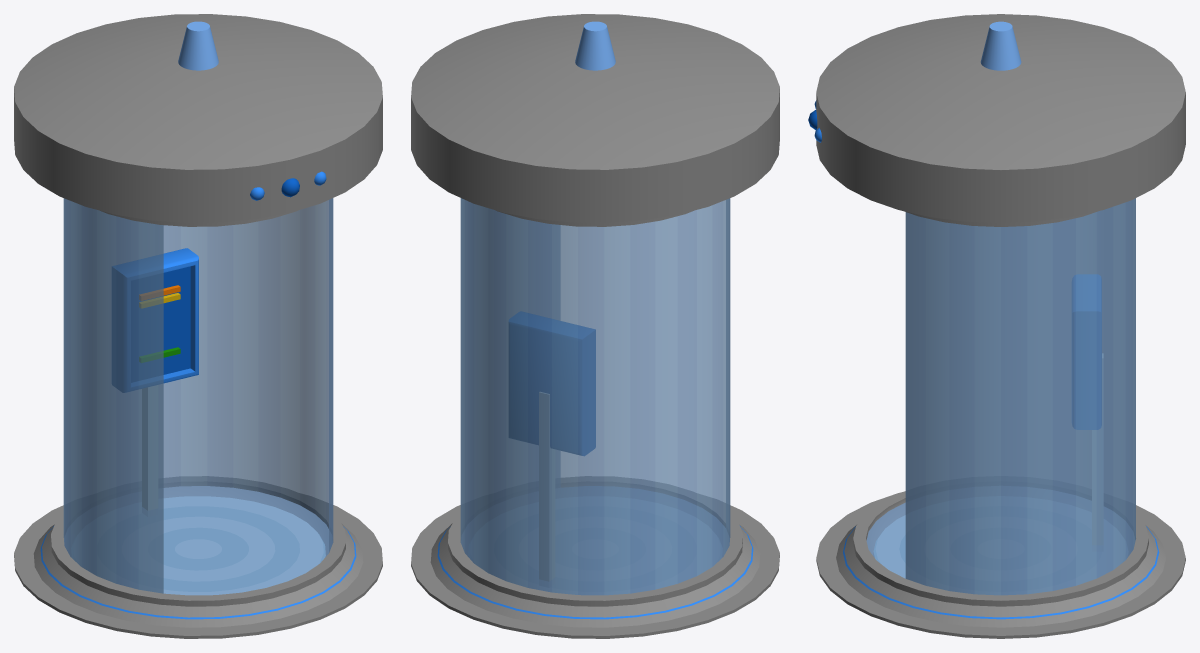
The model's file is telebooth.glb.
3 views of the same model, side by side, from view 1: azimuth 30°, elevation 25°; view 2: azimuth 150°, elevation 25°; view 3: azimuth 270°, elevation 25° (orthographic).
Visible parts, largest first — view 1: Teleporter, ControlPanel; view 2: Teleporter, ControlPanel; view 3: Teleporter, ControlPanel.
Part boxes in pixels (left/top/right/bottom): Teleporter: left=14, top=14, right=382, bottom=638; ControlPanel: left=112, top=248, right=198, bottom=392; Teleporter: left=411, top=14, right=779, bottom=638; ControlPanel: left=509, top=311, right=595, bottom=455; Teleporter: left=808, top=14, right=1185, bottom=638; ControlPanel: left=1072, top=274, right=1101, bottom=429.
Bounding box in the file's own units: 2 × 3.19 × 2.04.
Materials: 3 (3 with a texture image).
